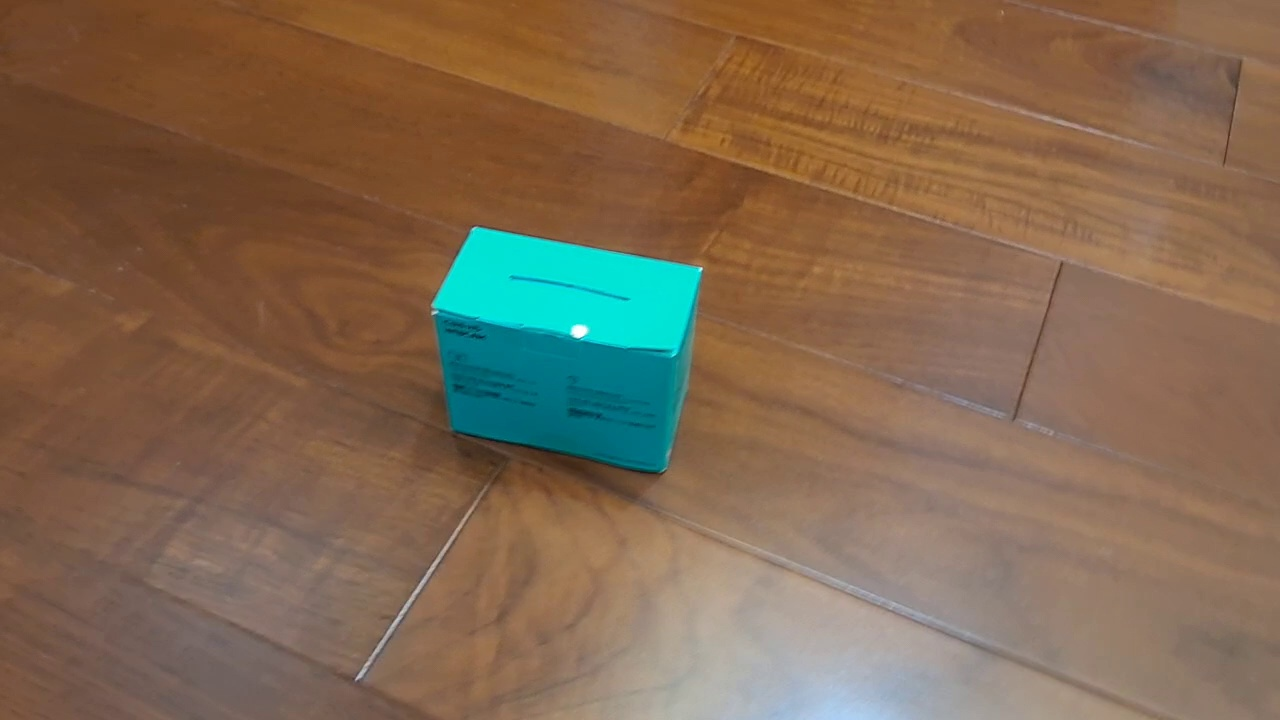webcam: (428, 222, 706, 477)
